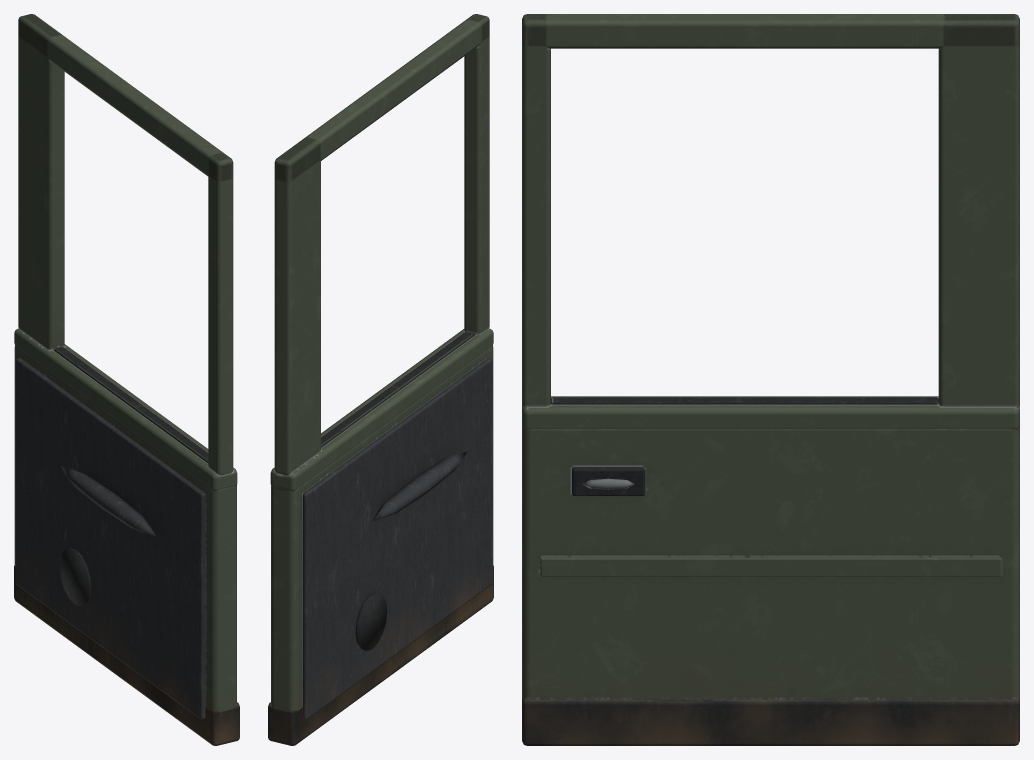
The model's file is mule_door_fr.glb.
3 views of the same model, side by side, from view 1: azimuth 30°, elevation 25°; view 2: azimuth 150°, elevation 25°; view 3: azimuth 270°, elevation 25° (orthographic). The views are drawn at different scales.
Visible parts, largest first — view 1: mule_door_fr; view 2: mule_door_fr; view 3: mule_door_fr.
Boxes of the visible parts, box(x1,y1,x2,y2) form: mule_door_fr: box(14, 14, 239, 745); mule_door_fr: box(268, 14, 493, 745); mule_door_fr: box(522, 14, 1019, 745).
Bounding box in the file's own units: 0.1596 × 1.52 × 0.95.
1 material, 1 textured.
